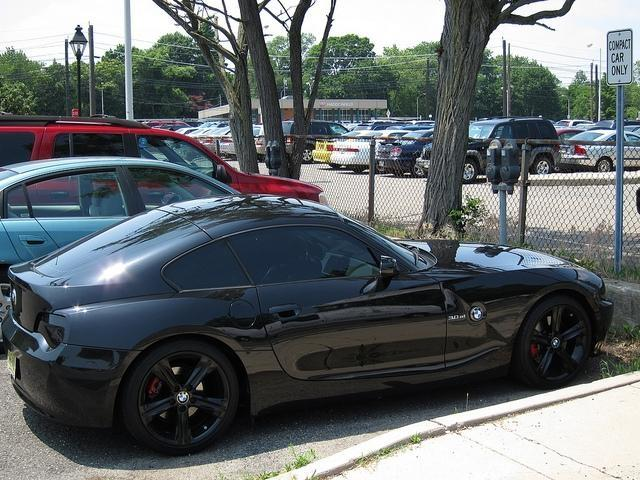car: (6, 195, 608, 445), (0, 155, 245, 326), (1, 114, 327, 201), (328, 129, 408, 174), (560, 130, 640, 172), (374, 126, 434, 178), (282, 120, 350, 162), (313, 138, 340, 170), (188, 128, 218, 142), (254, 134, 268, 162), (560, 128, 586, 142), (554, 119, 594, 126), (174, 126, 198, 137)
truck: (0, 110, 334, 206)
